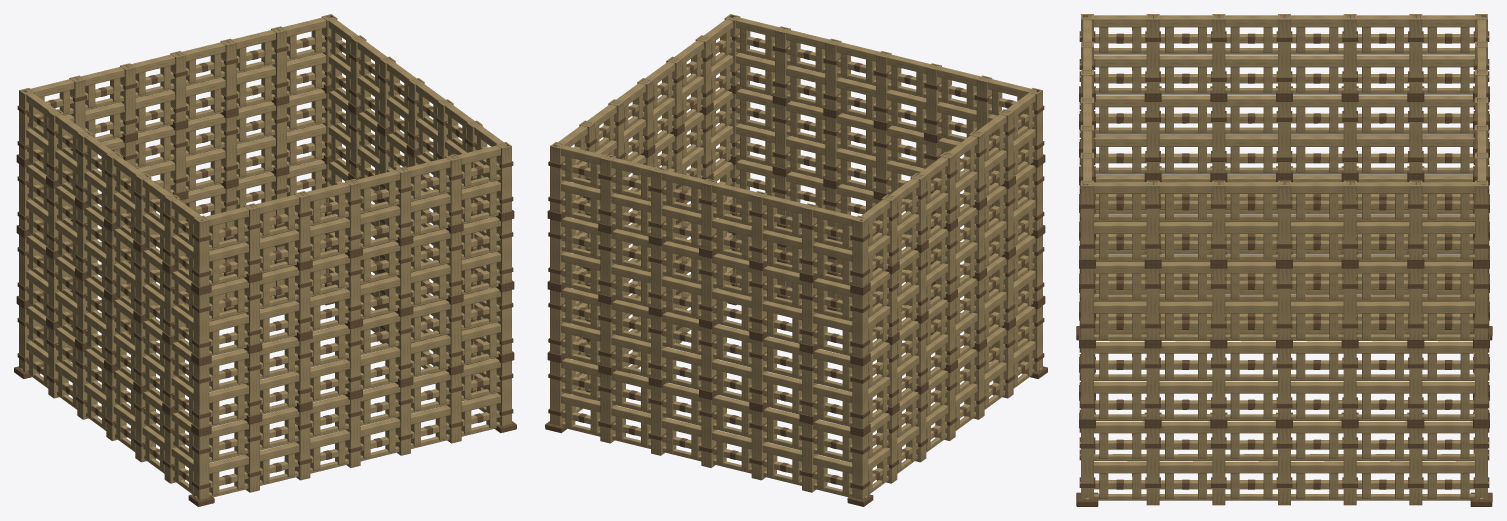
The picture shows the model from 3 angles, left to right: view 1: azimuth 30°, elevation 25°; view 2: azimuth 150°, elevation 25°; view 3: azimuth 270°, elevation 25°; orthographic projection. The views are drawn at different scales.
Visible parts, largest first — view 1: Tier 3 side 0 post 0, Tier 0 side 0 post 0, Tier 1 side 0 post 0, Tier 2 side 0 post 0, Tier 3 side 0 post 2, Tier 0 side 0 post 2, Tier 3 side 0 post 5, Tier 0 side 0 post 5, Tier 3 side 2 post 2, Tier 3 side 2 post 4, Tier 3 side 0 post 3, Tier 0 side 0 post 3 (+38 smaller); view 2: Tier 3 side 3 post 0, Tier 0 side 3 post 0, Tier 1 side 3 post 0, Tier 2 side 3 post 0, Tier 0 side 2 post 4, Tier 3 side 2 post 4, Tier 3 side 2 post 1, Tier 0 side 2 post 1, Tier 3 side 0 post 4, Tier 3 side 2 post 3, Tier 0 side 2 post 3, Tier 0 side 2 post 5 (+38 smaller); view 3: Tier 3 side 1 post 2, Tier 3 side 1 post 5, Tier 3 side 1 post 1, Tier 3 side 1 post 4, Tier 0 side 1 post 1, Tier 0 side 1 post 2, Tier 0 side 1 post 4, Tier 0 side 1 post 5, Tier 3 side 3 post 1, Tier 3 side 3 post 2, Tier 3 side 3 post 4, Tier 3 side 3 post 5 (+98 smaller).
Part boxes in pixels (x1=…): Tier 3 side 0 post 0: x1=193, y1=215, x2=209, y2=286; Tier 0 side 0 post 0: x1=193, y1=433, x2=209, y2=499; Tier 1 side 0 post 0: x1=193, y1=363, x2=209, y2=428; Tier 2 side 0 post 0: x1=193, y1=292, x2=209, y2=357; Tier 3 side 0 post 2: x1=294, y1=191, x2=310, y2=262; Tier 0 side 0 post 2: x1=295, y1=410, x2=310, y2=480; Tier 3 side 0 post 5: x1=445, y1=154, x2=461, y2=225; Tier 0 side 0 post 5: x1=446, y1=373, x2=461, y2=443; Tier 3 side 2 post 2: x1=220, y1=38, x2=236, y2=109; Tier 3 side 2 post 4: x1=120, y1=63, x2=135, y2=134; Tier 3 side 0 post 3: x1=345, y1=178, x2=360, y2=250; Tier 0 side 0 post 3: x1=345, y1=397, x2=360, y2=467; Tier 3 side 3 post 0: x1=852, y1=215, x2=868, y2=286; Tier 0 side 3 post 0: x1=852, y1=433, x2=868, y2=499; Tier 1 side 3 post 0: x1=852, y1=363, x2=868, y2=428; Tier 2 side 3 post 0: x1=852, y1=292, x2=868, y2=357; Tier 0 side 2 post 4: x1=751, y1=410, x2=767, y2=480; Tier 3 side 2 post 4: x1=751, y1=191, x2=767, y2=262; Tier 3 side 2 post 1: x1=600, y1=154, x2=616, y2=225; Tier 0 side 2 post 1: x1=600, y1=373, x2=615, y2=443; Tier 3 side 0 post 4: x1=825, y1=38, x2=841, y2=109; Tier 3 side 2 post 3: x1=701, y1=178, x2=716, y2=250; Tier 0 side 2 post 3: x1=701, y1=397, x2=716, y2=467; Tier 0 side 2 post 5: x1=802, y1=422, x2=817, y2=492; Tier 3 side 1 post 2: x1=1212, y1=180, x2=1225, y2=259; Tier 3 side 1 post 5: x1=1409, y1=180, x2=1422, y2=259; Tier 3 side 1 post 1: x1=1146, y1=180, x2=1159, y2=259; Tier 3 side 1 post 4: x1=1343, y1=180, x2=1356, y2=259; Tier 0 side 1 post 1: x1=1146, y1=428, x2=1159, y2=505; Tier 0 side 1 post 2: x1=1212, y1=428, x2=1225, y2=505; Tier 0 side 1 post 4: x1=1343, y1=428, x2=1356, y2=505; Tier 0 side 1 post 5: x1=1409, y1=428, x2=1422, y2=505; Tier 3 side 3 post 1: x1=1409, y1=14, x2=1422, y2=92; Tier 3 side 3 post 2: x1=1343, y1=14, x2=1356, y2=92; Tier 3 side 3 post 4: x1=1212, y1=14, x2=1225, y2=92; Tier 3 side 3 post 5: x1=1146, y1=14, x2=1159, y2=92.
Size of the model in its own units: 2.85 by 2.41 by 2.85.
2 materials, 2 textured.
